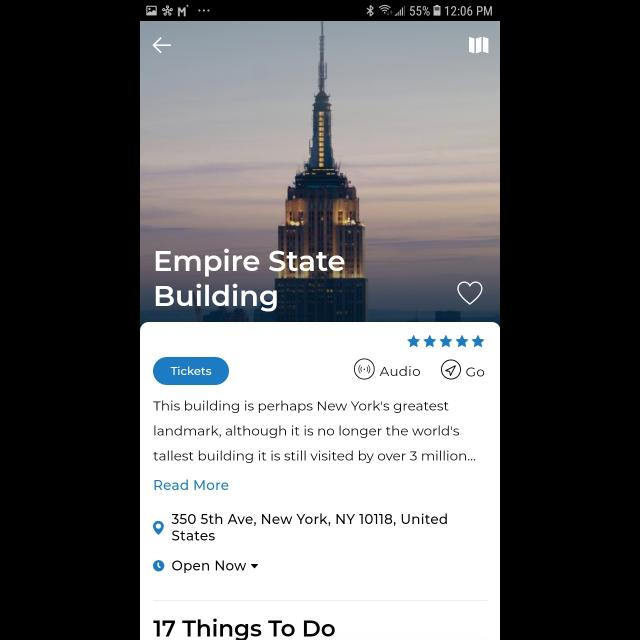icon: (408, 336, 484, 348), (458, 282, 482, 304), (441, 360, 461, 380), (469, 37, 489, 54), (153, 38, 171, 54), (154, 520, 164, 536), (153, 560, 165, 572), (251, 564, 259, 568)
image: (140, 21, 500, 322), (354, 358, 376, 380)
text: (153, 401, 475, 464), (156, 249, 344, 311), (172, 513, 448, 541), (153, 618, 335, 640), (172, 560, 246, 574), (155, 480, 229, 490), (380, 366, 420, 376), (466, 367, 484, 377)
textbutton: (154, 356, 230, 386)
uppertaskbar: (140, 1, 500, 22)
